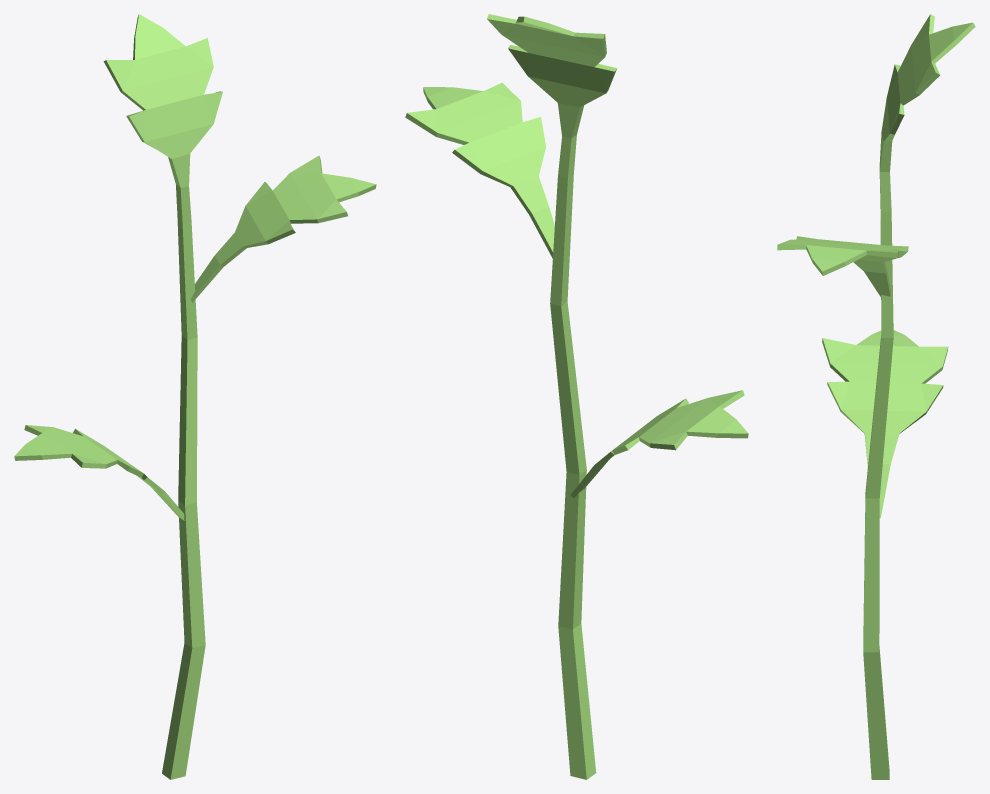
The model's file is tomato_2.glb.
3 views of the same model, side by side, from view 1: azimuth 30°, elevation 25°; view 2: azimuth 150°, elevation 25°; view 3: azimuth 270°, elevation 25° (orthographic). The views are drawn at different scales.
Visible parts, largest first — view 1: Tomato_2; view 2: Tomato_2; view 3: Tomato_2.
Part boxes in pixels (bbox=[...]): Tomato_2: bbox=[14, 14, 376, 779]; Tomato_2: bbox=[405, 14, 748, 779]; Tomato_2: bbox=[777, 14, 975, 779].
Size of the model in its own units: 0.3768 by 0.7908 by 0.1874.
